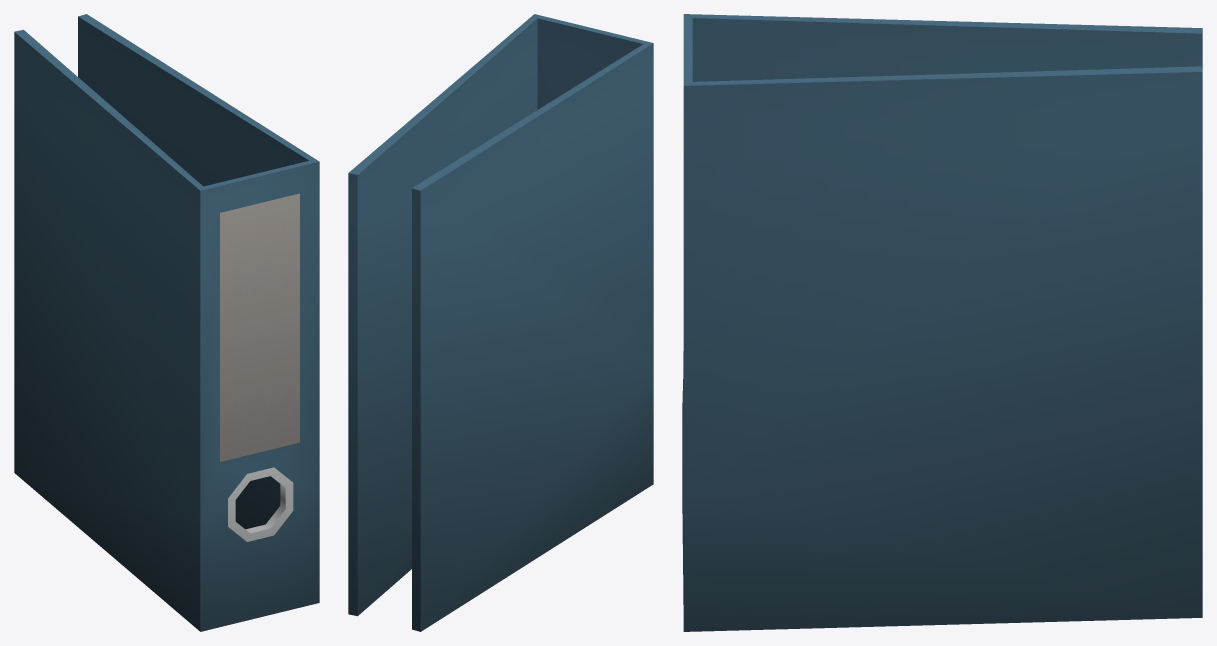
Rendered from RingBinder_Blue.fbx.
3 views of the same model, side by side, from view 1: azimuth 30°, elevation 25°; view 2: azimuth 150°, elevation 25°; view 3: azimuth 270°, elevation 25° (orthographic). The views are drawn at different scales.
Parts seen in each view (by area): view 1: RingBinder_Blue; view 2: RingBinder_Blue; view 3: RingBinder_Blue.
Part boxes in pixels (x1,y1,x2,y2): RingBinder_Blue: (14,14,319,631); RingBinder_Blue: (348,14,653,631); RingBinder_Blue: (682,14,1202,631).
Size of the model in its own units: 8.98 by 31.76 by 27.42.
